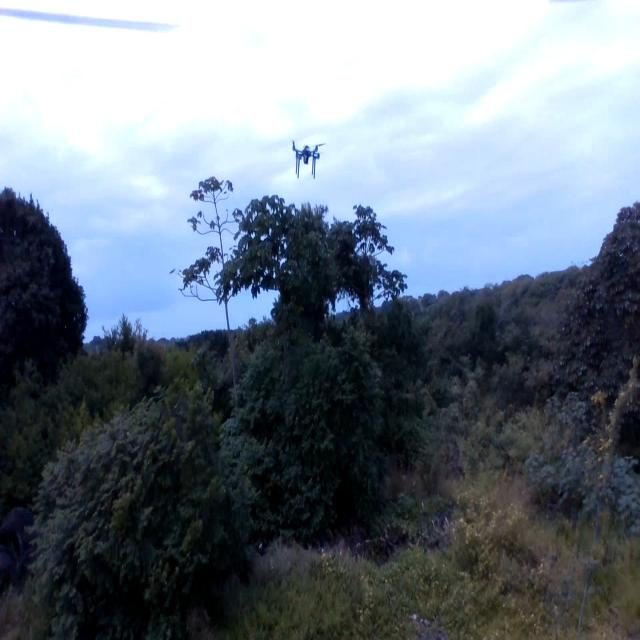-uav-: (287, 128, 326, 180)
